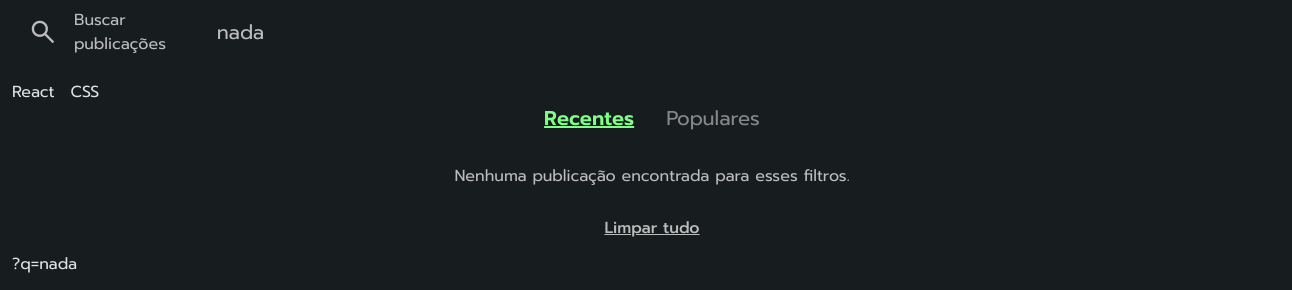
Test: FeedPage › offers to clear the filters when they match nothing
Check: the text "Nenhuma publicação encontrada para esses filtros." is shown, box [454,164,850,188]
Step 1. Click the button "Limpar tudo" → [652, 228], box [580,204,724,252]
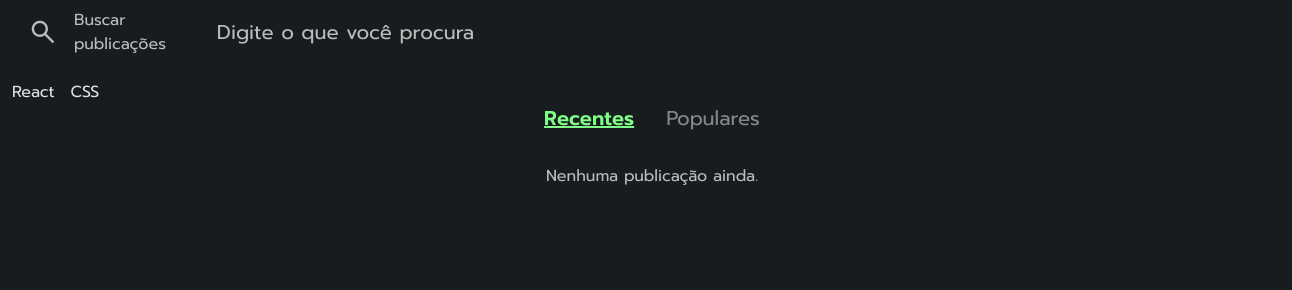
Check: the search field is empty, box [217,18,1276,46]
